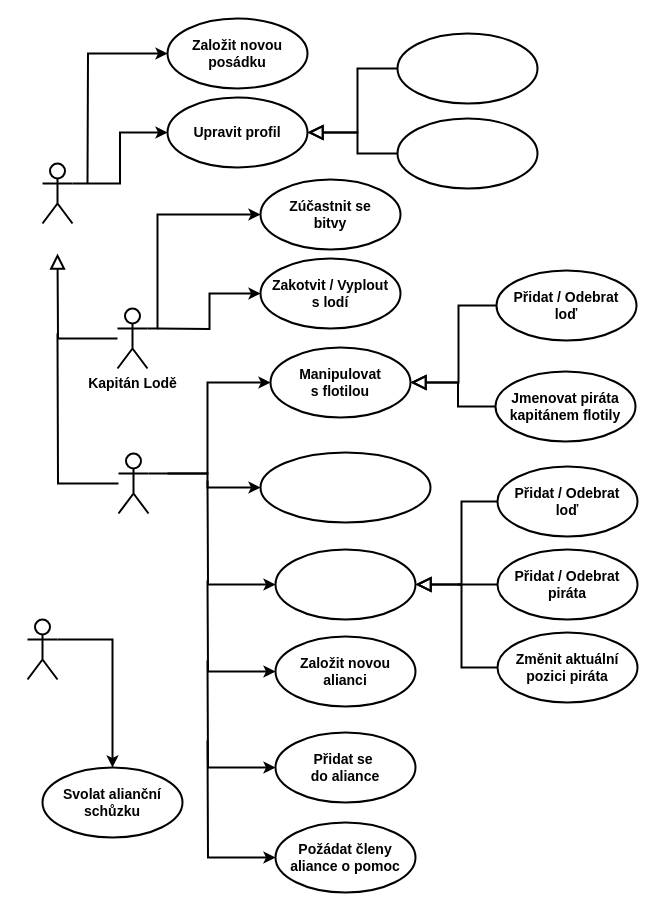
Some shapes in this 655 by 910 pixel diagram are drawn without their labels. Each missing label, with the centre of its shape:
"Aliance" goes at point 42,649.
"Kapitán Posádky" goes at point 133,483.
"Manipulovat s lodí" goes at point 345,584.
"Pirát" goes at point 57,193.
"Přidat / Odebrat charakteristiku" goes at point 467,153.
"Přijmout / Vyhodit piráta do / z posádky" goes at point 345,487.
"Změnit jméno / přezdívku" goes at point 467,68.
